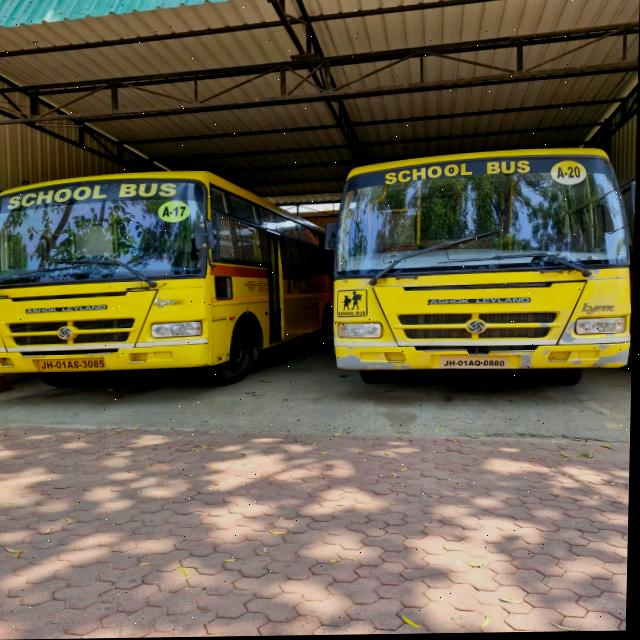bus: (294, 140, 637, 403), (0, 160, 331, 415)
